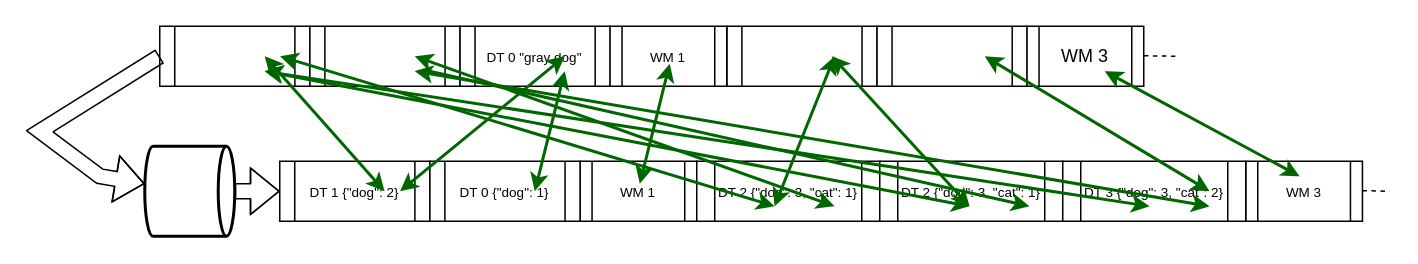
This 1418x264 diagram has some shape labels left out. The box of each missing label's shape, as (x1, y1, x2, y2) in pixels:
DT 1 "black dog": (158, 25, 310, 86)
DT 2 "orange cat": (308, 25, 460, 86)
DT 2 "pink dog": (725, 25, 877, 86)
DT 3 "black cat": (876, 25, 1027, 86)
Program: (142, 144, 236, 237)
